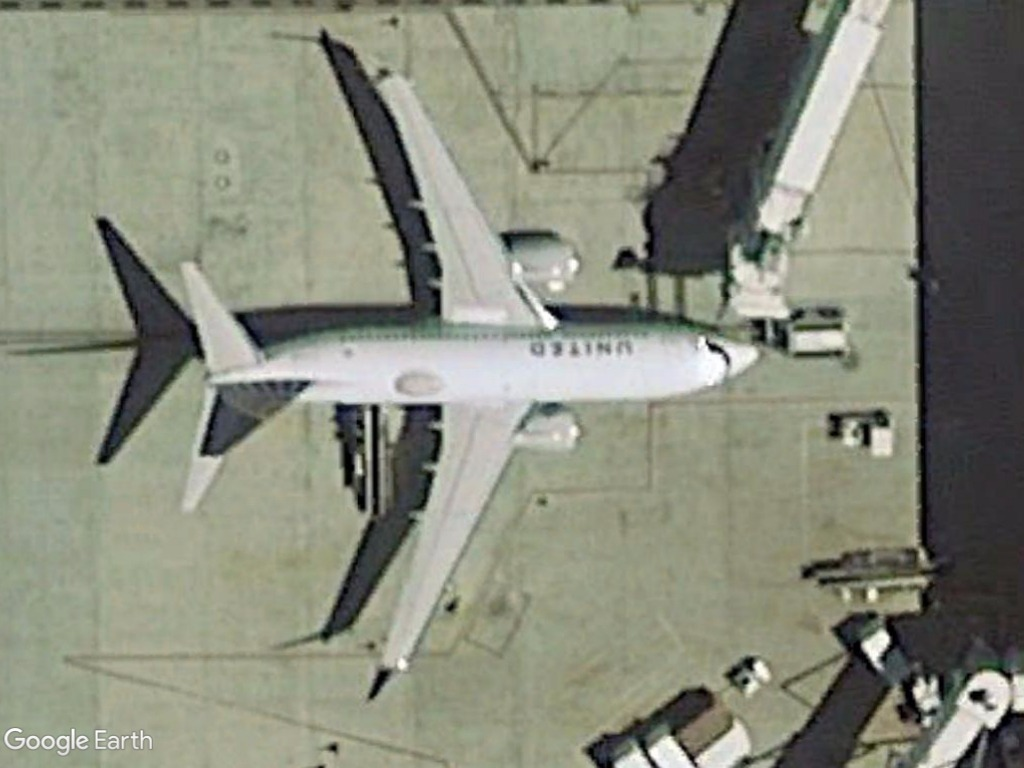airliner: (157, 57, 769, 707)
